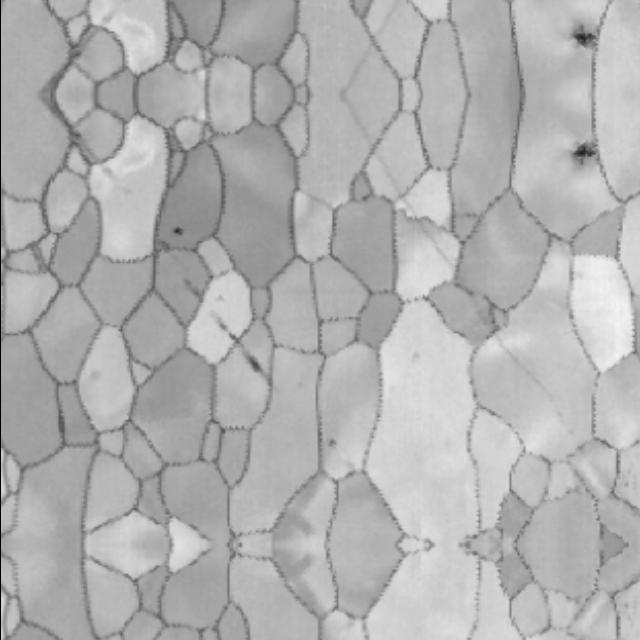good_void: (236, 346, 263, 381), (161, 216, 190, 242), (79, 364, 105, 390), (564, 134, 582, 171), (564, 17, 582, 54), (324, 432, 341, 450), (408, 347, 426, 362)
